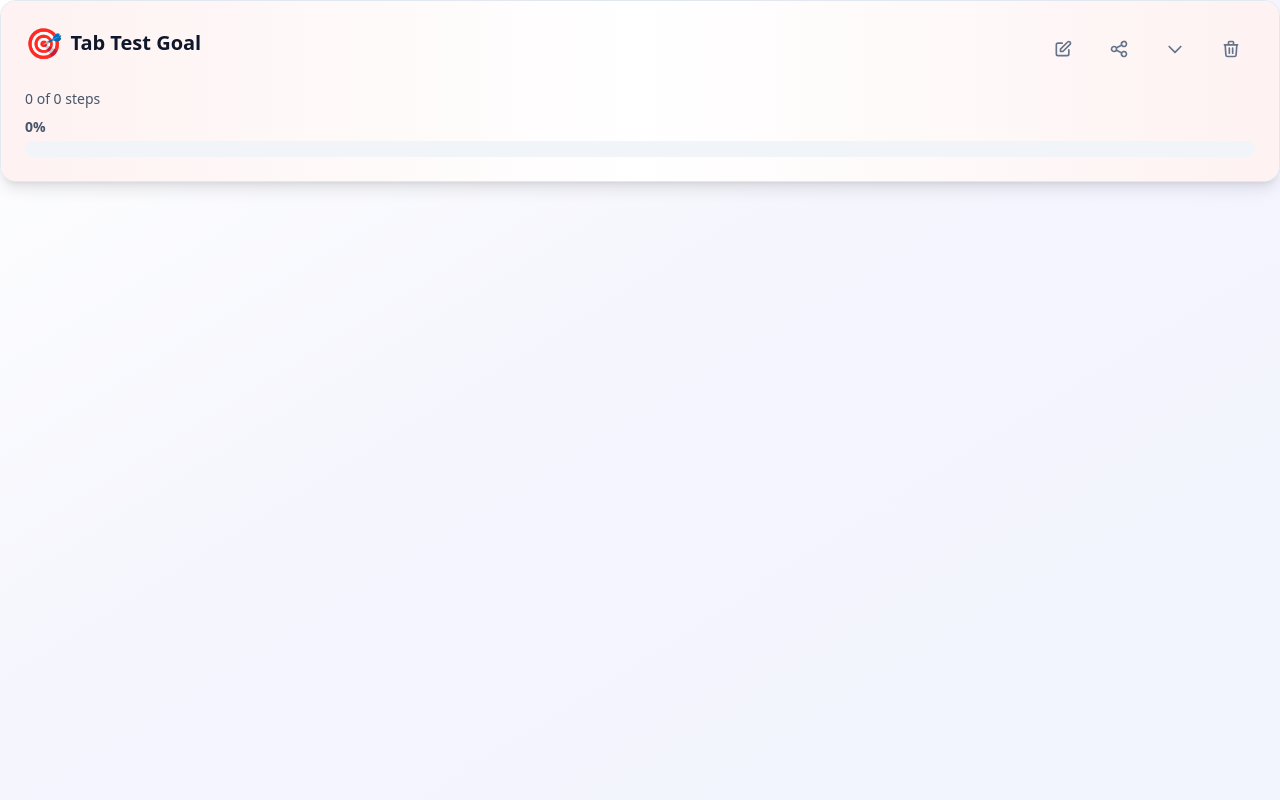
GoalCard › GoalCard tab visibility › always shows the Tasks tab
The image size is (1280, 800).
What coordinates should you click on to do the following:
click the button titled "Expand"
I would click on:
 (1175, 49)
Its box is top-left (1151, 25), bottom-right (1199, 73).
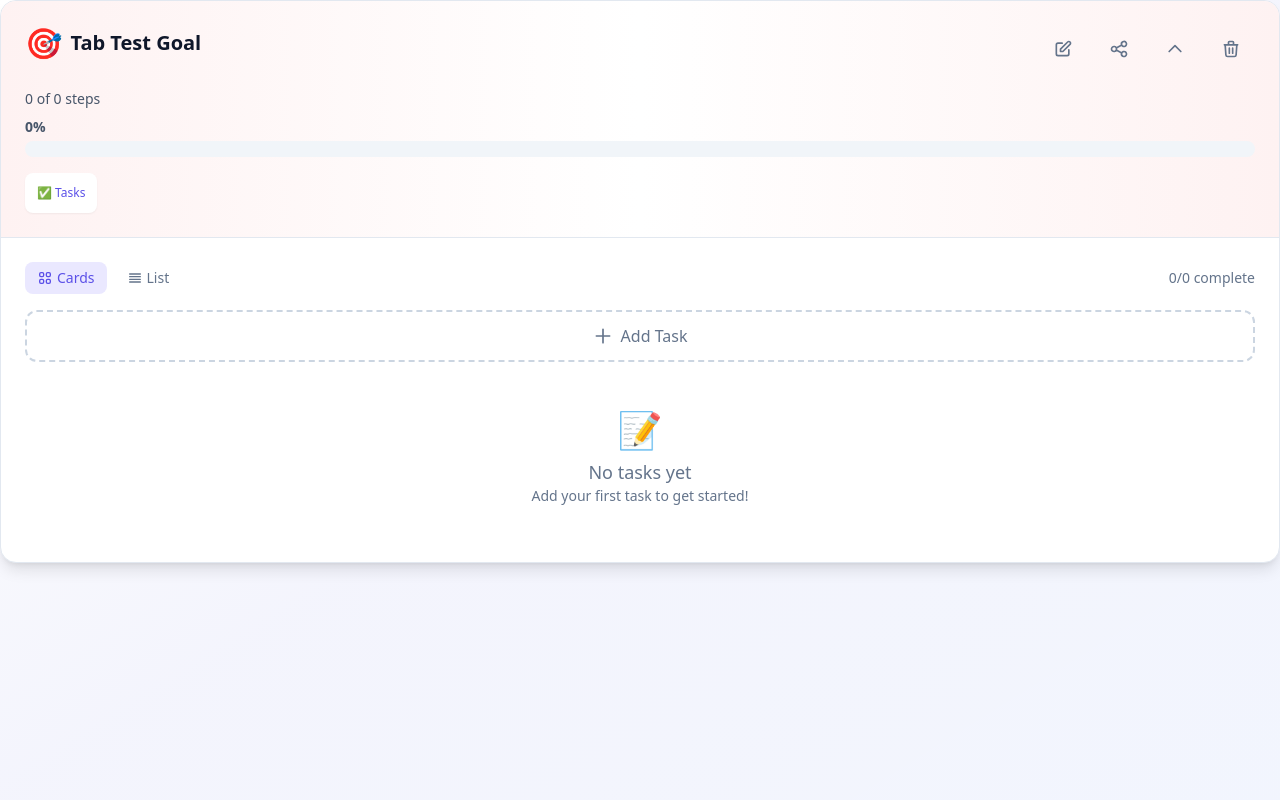
Check: the tab "✅ Tasks" is shown, box top-left (25, 173), bottom-right (97, 213)
